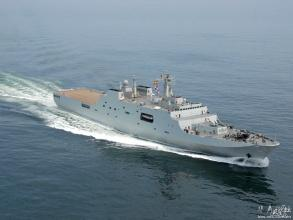warship: (53, 67, 281, 163)
